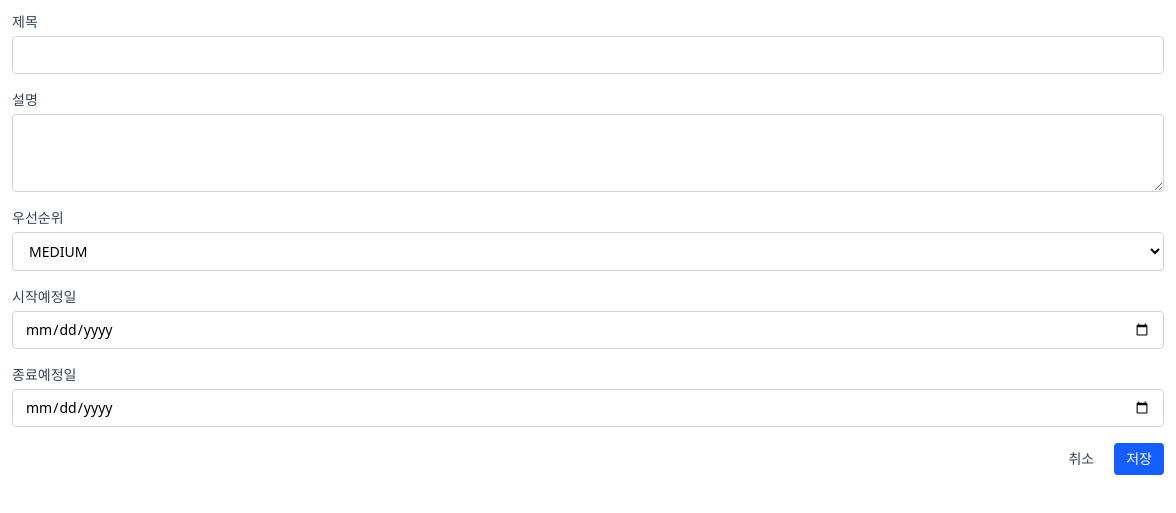
Test: TicketForm › 과거 종료예정일을 입력하면 에러 메시지를 표시한다
In the field labelled "제목": point(588, 55) [12,36,1164,74], type "정상 제목"
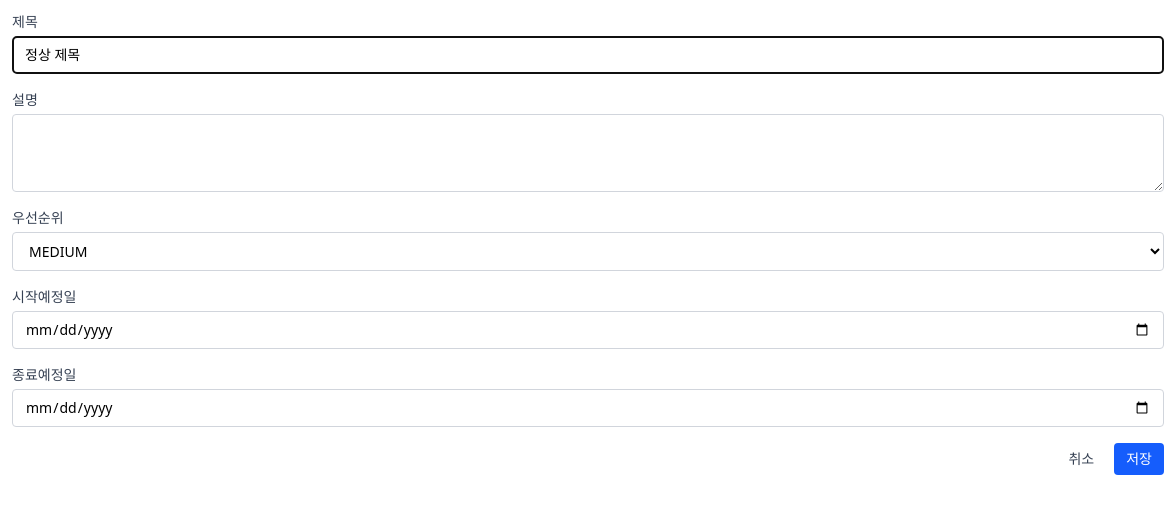
In the date field labelled "종료예정일": point(588, 408) [12,389,1164,427], type "2020-01-01"
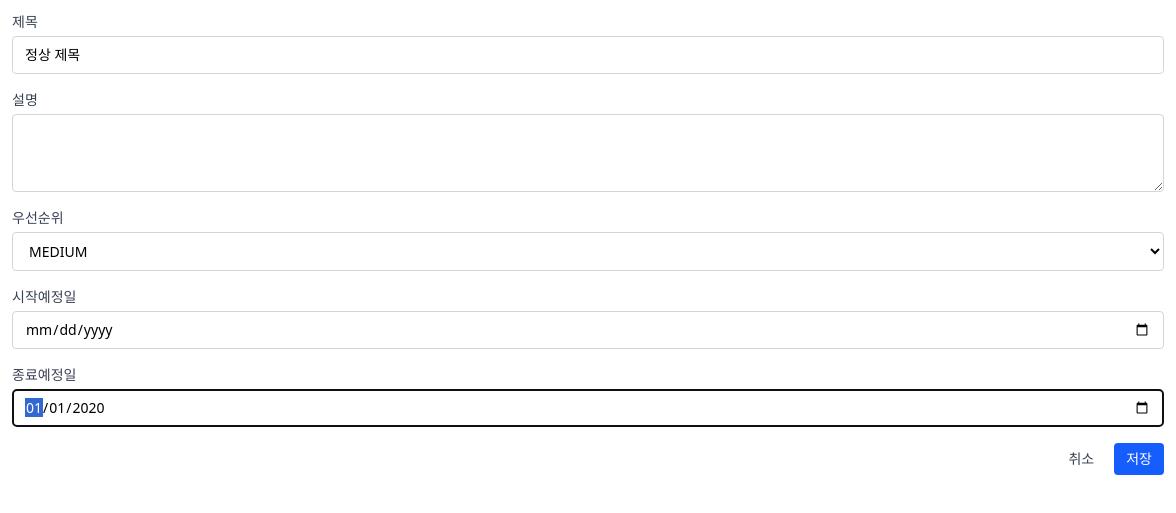
Click the button "저장": point(1139, 459) [1114,443,1164,475]
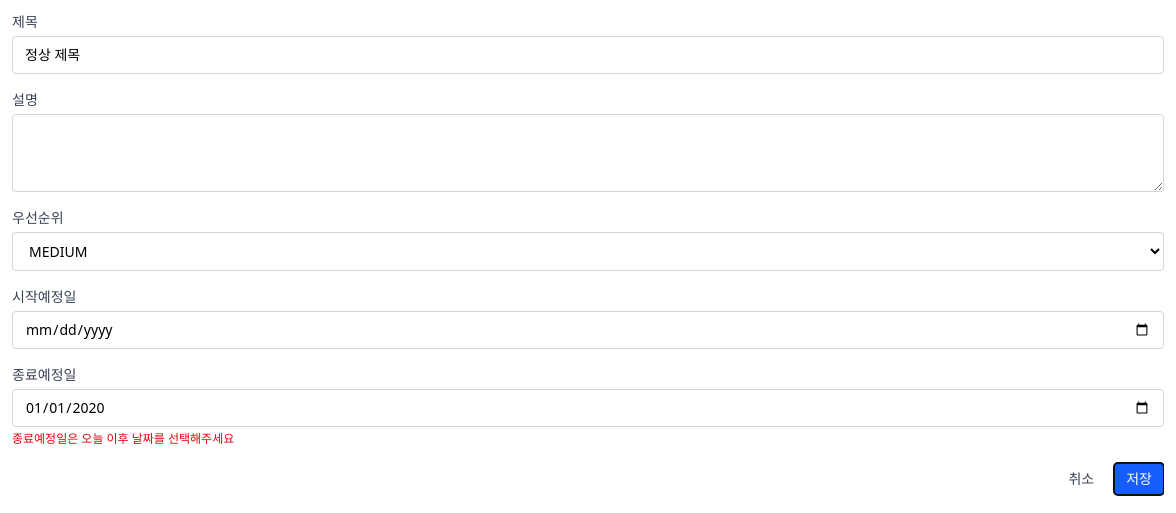
Check: the text "종료예정일은 오늘 이후 날짜를 선택해주세요" is shown, box [12,430,234,447]
